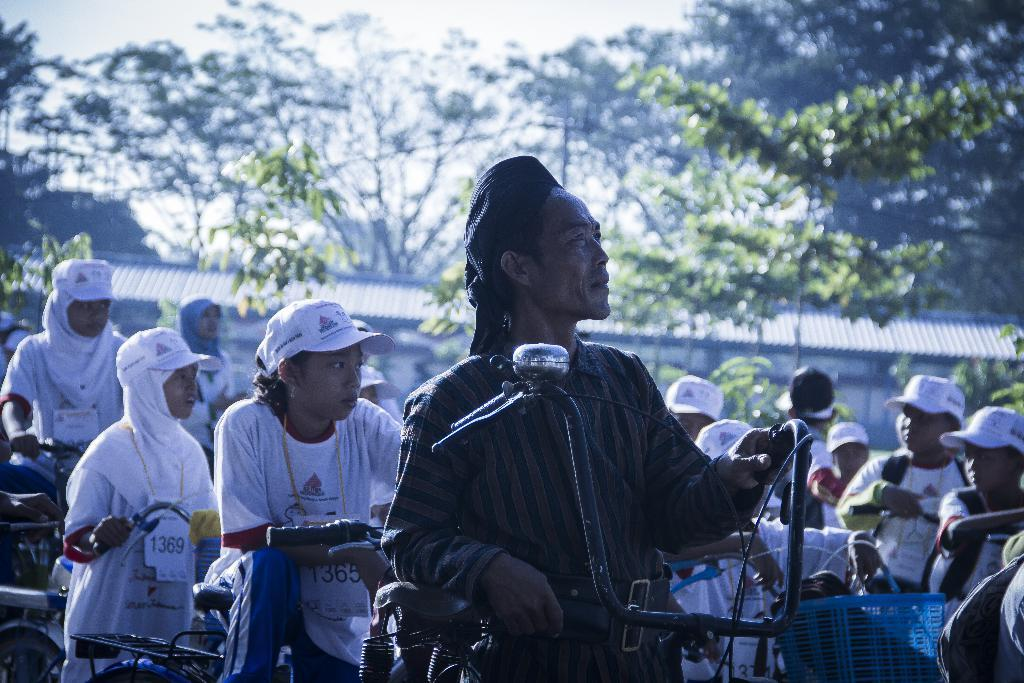Hat: (253, 302, 394, 376), (114, 321, 219, 386), (884, 373, 961, 429), (942, 407, 1022, 458), (772, 362, 838, 420), (50, 259, 116, 305), (664, 373, 722, 423), (692, 416, 754, 454), (828, 421, 870, 454)
